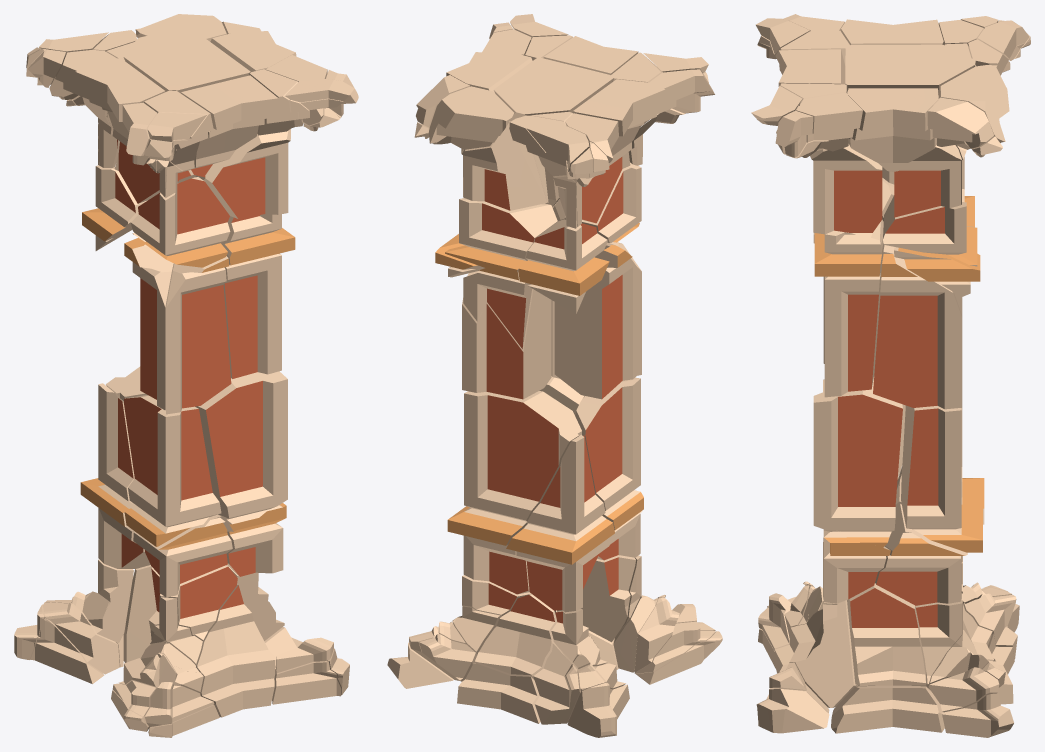
Rendered from PillarE.fbx.
3 views of the same model, side by side, from view 1: azimuth 30°, elevation 25°; view 2: azimuth 150°, elevation 25°; view 3: azimuth 270°, elevation 25° (orthographic). The views are drawn at different scales.
Visible parts, largest first — view 1: Cube.012_cell.001; view 2: Cube.012_cell.001; view 3: Cube.012_cell.001.
Part boxes in pixels (box(x1,y1,x2,y2)): Cube.012_cell.001: box(14, 14, 358, 737); Cube.012_cell.001: box(387, 14, 722, 737); Cube.012_cell.001: box(751, 14, 1030, 737).
Bounding box in the file's own units: 379 × 920 × 377.
